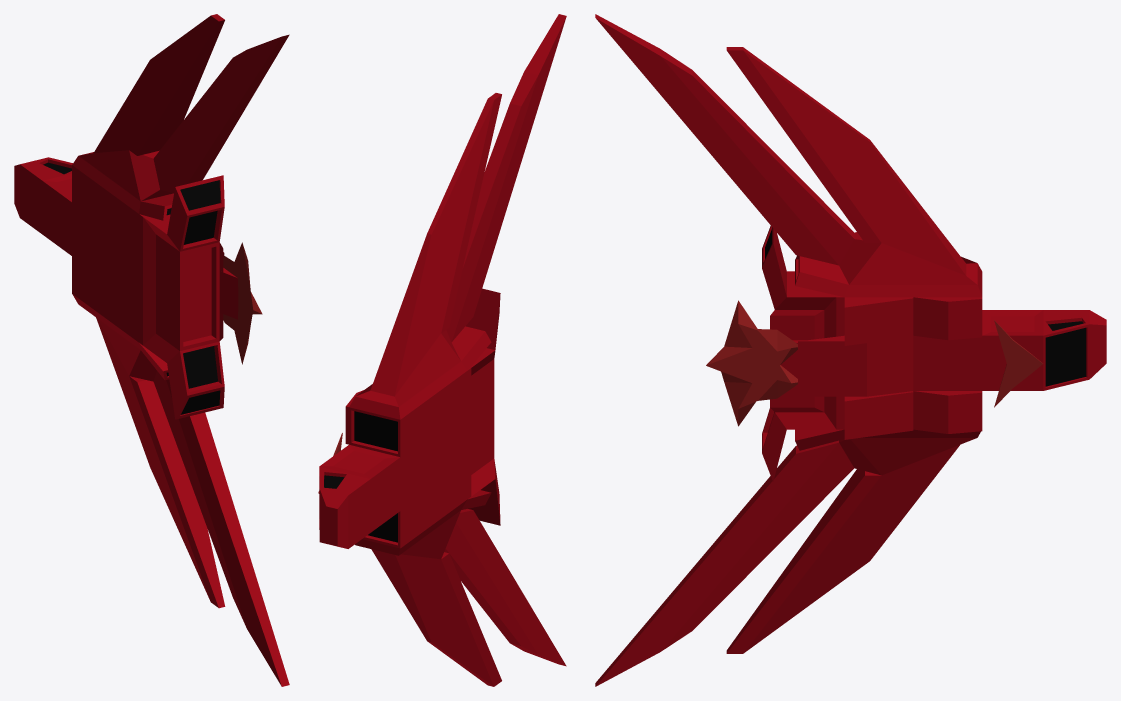
The model's file is Inimigo2.fbx.
The picture shows the model from 3 angles, left to right: view 1: azimuth 30°, elevation 25°; view 2: azimuth 150°, elevation 25°; view 3: azimuth 270°, elevation 25°; orthographic projection. The views are drawn at different scales.
Parts seen in each view (by area): view 1: Cylinder.002; view 2: Cylinder.002; view 3: Cylinder.002.
Boxes of the visible parts, x1,y1,x2,y2 form: Cylinder.002: [14, 14, 289, 686]; Cylinder.002: [318, 14, 566, 686]; Cylinder.002: [595, 14, 1106, 686].
Size of the model in its own units: 4033 by 2792 by 468.
